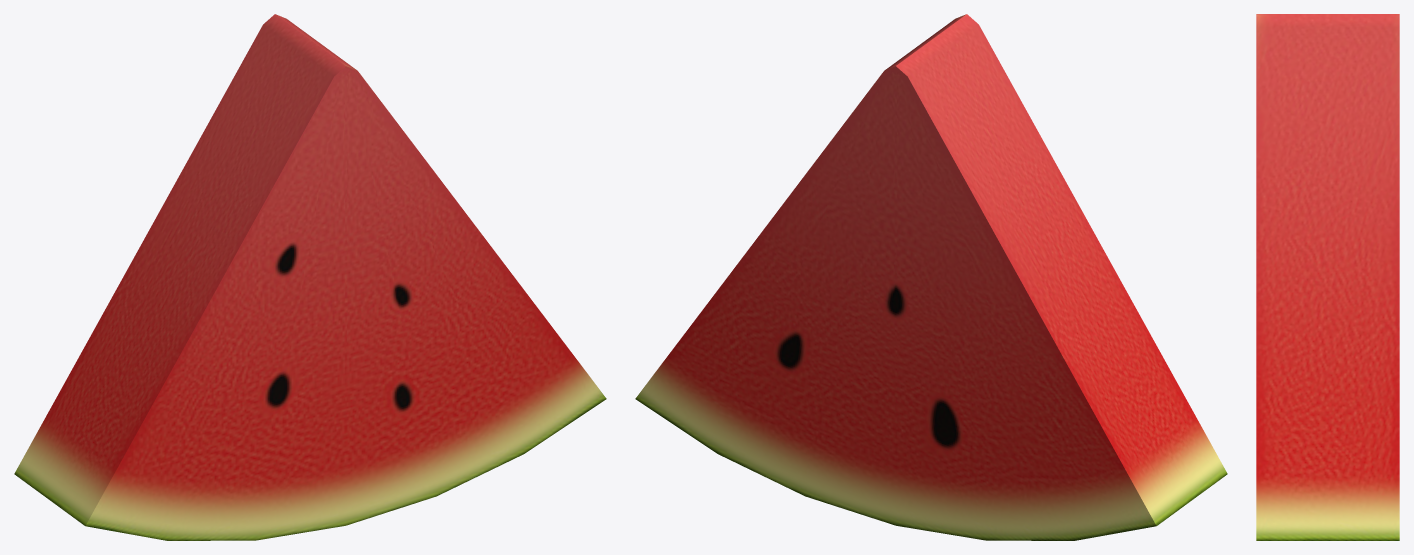
Rendered from WatermelonSlice_1.fbx.
3 views of the same model, side by side, from view 1: azimuth 30°, elevation 25°; view 2: azimuth 150°, elevation 25°; view 3: azimuth 270°, elevation 25° (orthographic).
Parts seen in each view (by area): view 1: WatermelonSlice_1; view 2: WatermelonSlice_1; view 3: WatermelonSlice_1.
Part boxes in pixels (left/top/right/bottom): WatermelonSlice_1: left=14, top=14, right=606, bottom=540; WatermelonSlice_1: left=635, top=14, right=1227, bottom=540; WatermelonSlice_1: left=1256, top=14, right=1399, bottom=540.
Size of the model in its own units: 0.0806 by 0.0679 by 0.0191.
Materials: 1 (1 with a texture image).
